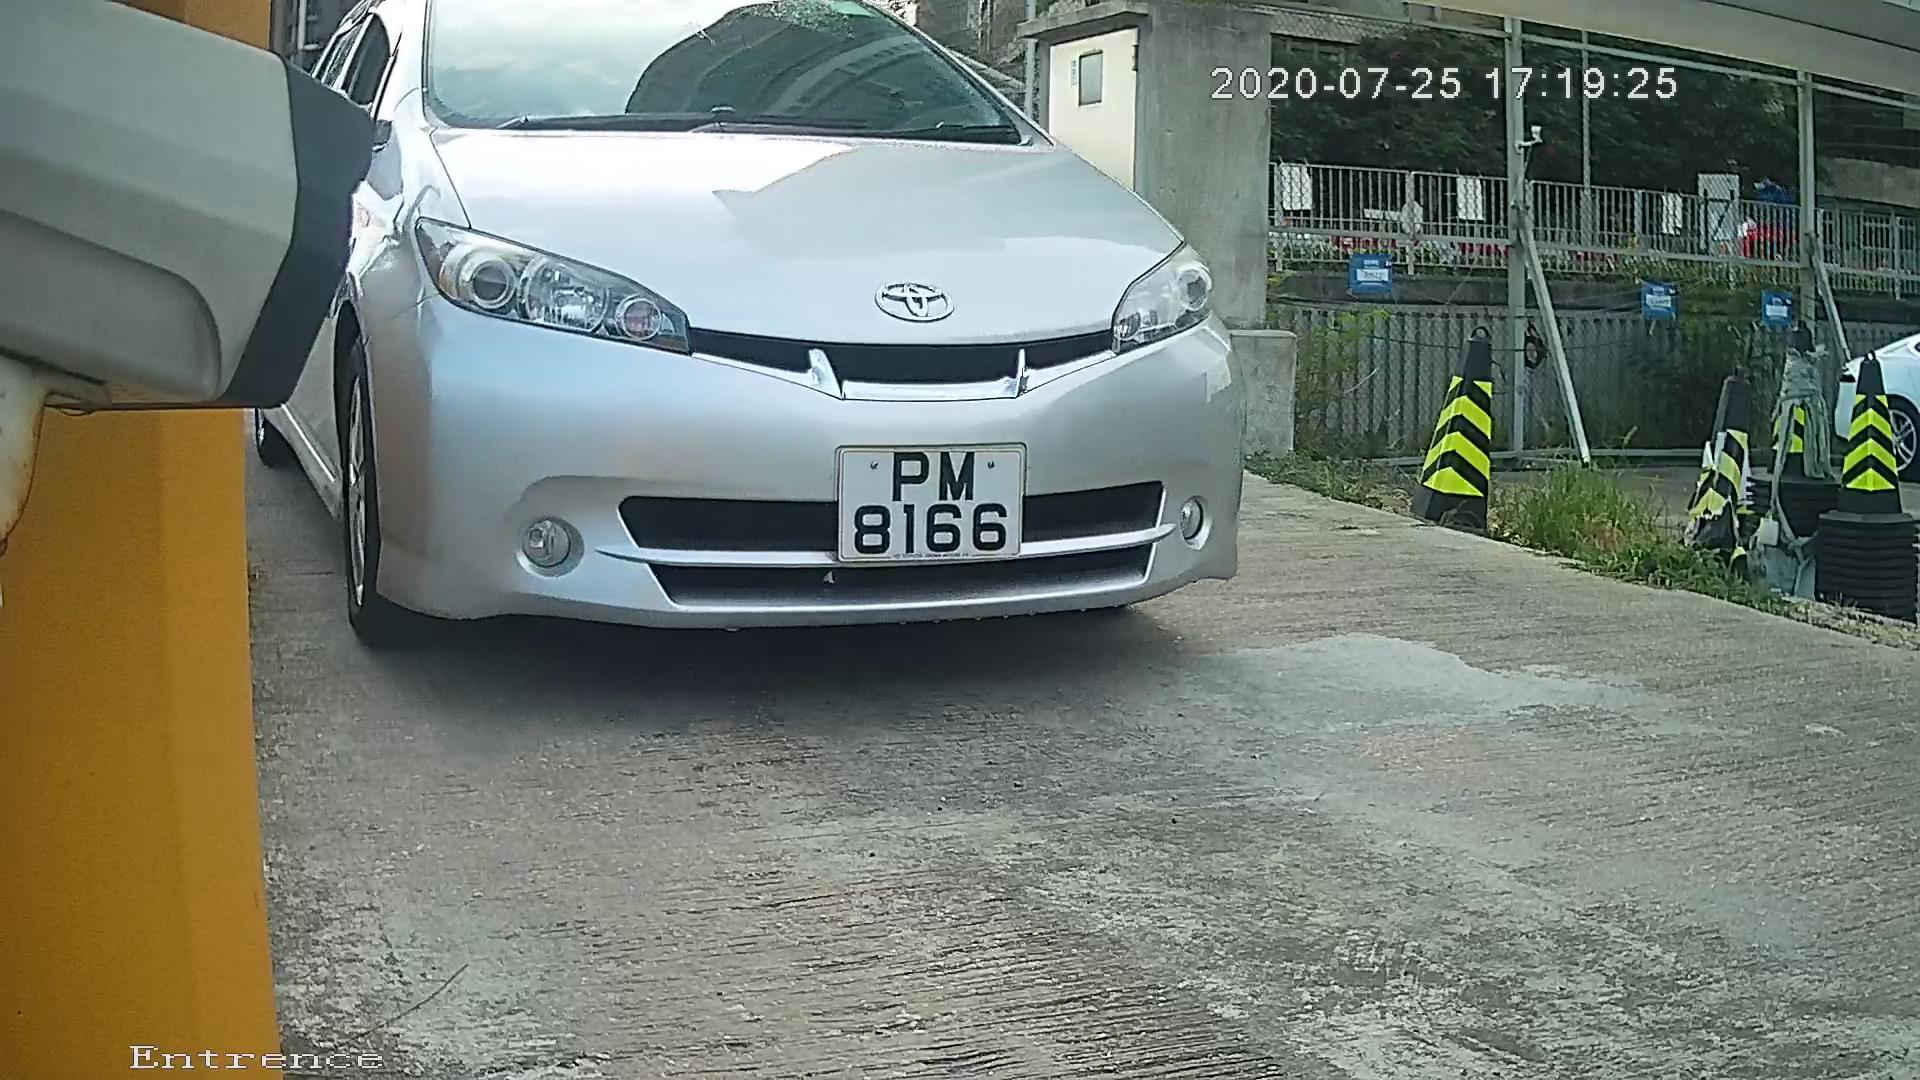Car: (146, 1, 1363, 714)
License Plate: (815, 439, 1038, 574)
